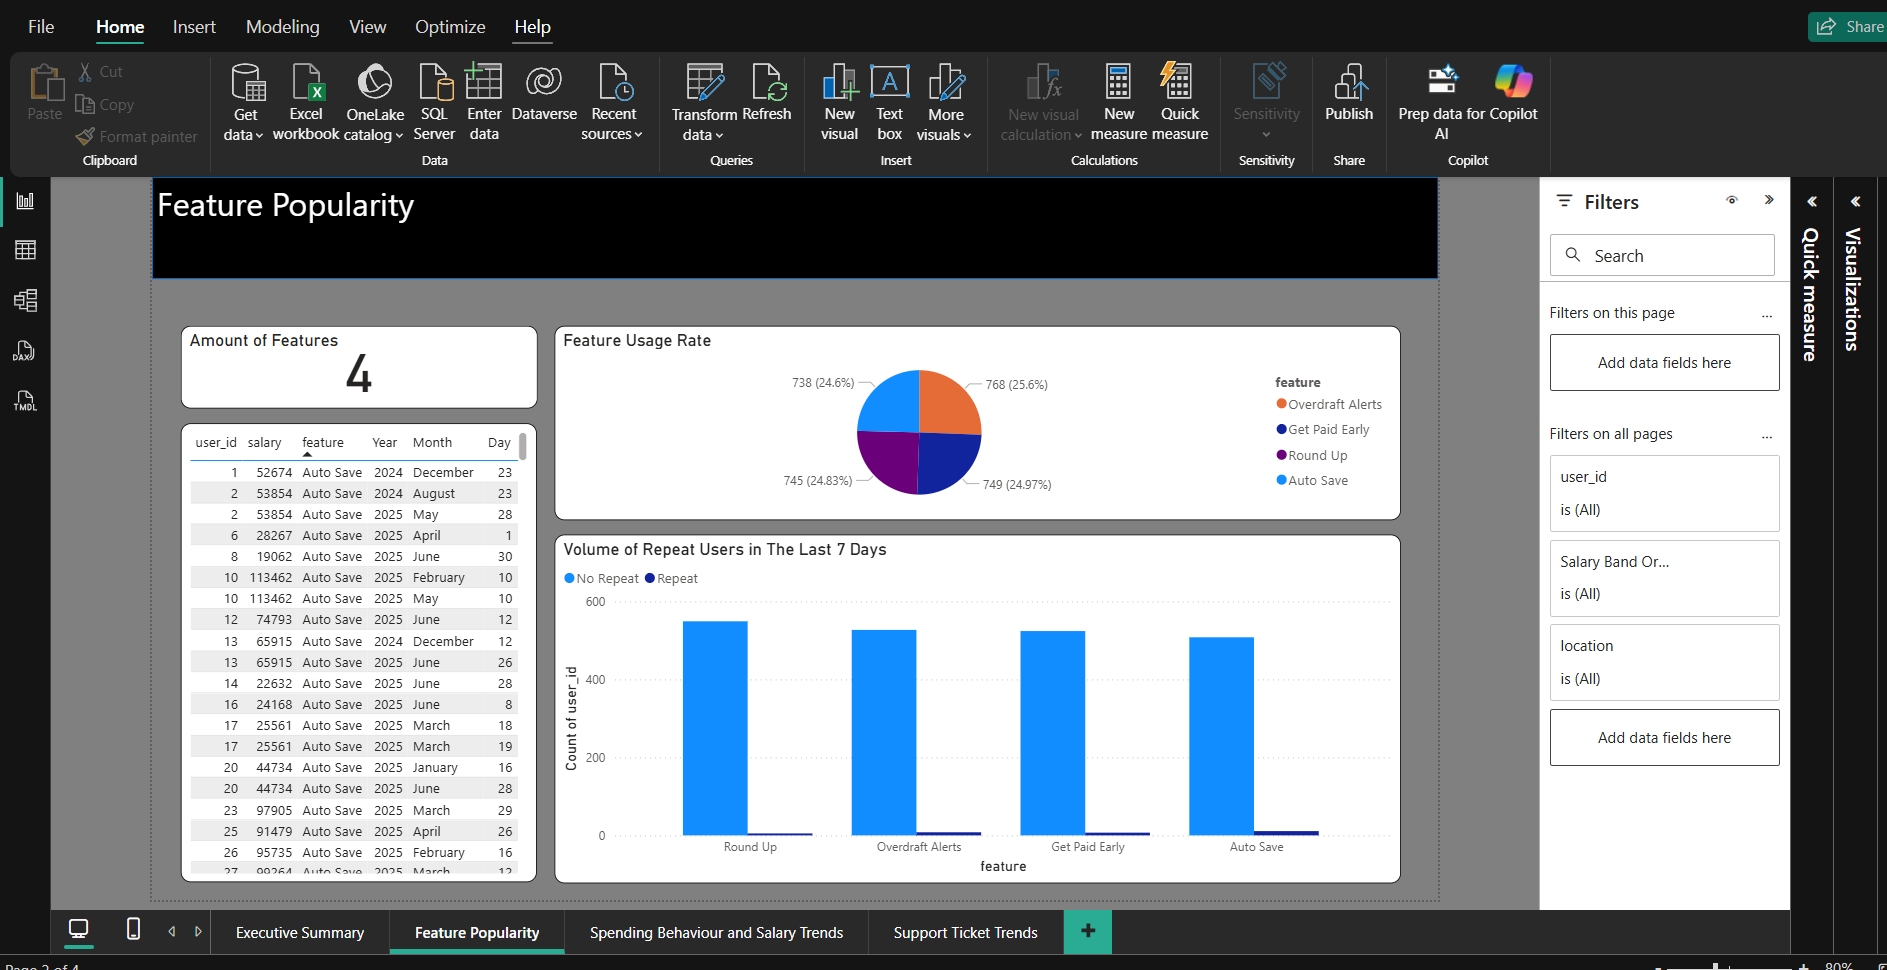

Layout of this report page (visuals, bound fields, positions):
{"tool":"powerbi","page":{"name":"Feature Popularity","canvas":[1280,720],"ordinal":1},"visuals":[{"type":"pieChart","title":"Feature Usage Rate","fields":{"Category":["feature_usage.feature"],"Y":["CountNonNull(feature_usage.user_id)"]},"box":[400.7,148.2,842.5,193.5],"z":0},{"type":"clusteredColumnChart","title":"Volume of Repeat Users in The Last 7 Days","fields":{"Category":["FirstFeatureUse.feature"],"Series":["FirstFeatureUse.RepeatWithin7Days"],"Y":["Count(FirstFeatureUse.user_id)"]},"box":[400.7,355.4,842.5,347.2],"z":1000},{"type":"card","title":"Amount of Features","fields":{"Values":["Count(FirstFeatureUse.feature)"]},"box":[28.5,148.2,354.9,82.7],"z":2000},{"type":"tableEx","fields":{"Values":["users.user_id","users.salary","feature_usage.feature","feature_usage.used_at.Variation.Date Hierarchy.Year","feature_usage.used_at.Variation.Date Hierarchy.Month","feature_usage.used_at.Variation.Date Hierarchy.Day"]},"box":[28.8,245.6,354,456.9],"z":3000},{"type":"shape","box":[0,0,1280.3,101.5],"z":4000},{"type":"textbox","box":[0,0,410.5,101.2],"z":5000}]}

Visuals, with their boxes on the page's 1280x720 design canvas (x1, y1, x2, y2). These are canvas units, not pixel positions in the 1887x970 screenshot, which may show the page scaled, cropped or inside an application window:
"Feature Usage Rate" pieChart: box(401, 148, 1243, 342)
"Volume of Repeat Users in The Last 7 Days" clusteredColumnChart: box(401, 355, 1243, 703)
"Amount of Features" card: box(28, 148, 383, 231)
tableEx - users.user_id x users.salary: box(29, 246, 383, 702)
shape: box(0, 0, 1280, 102)
textbox: box(0, 0, 410, 101)
